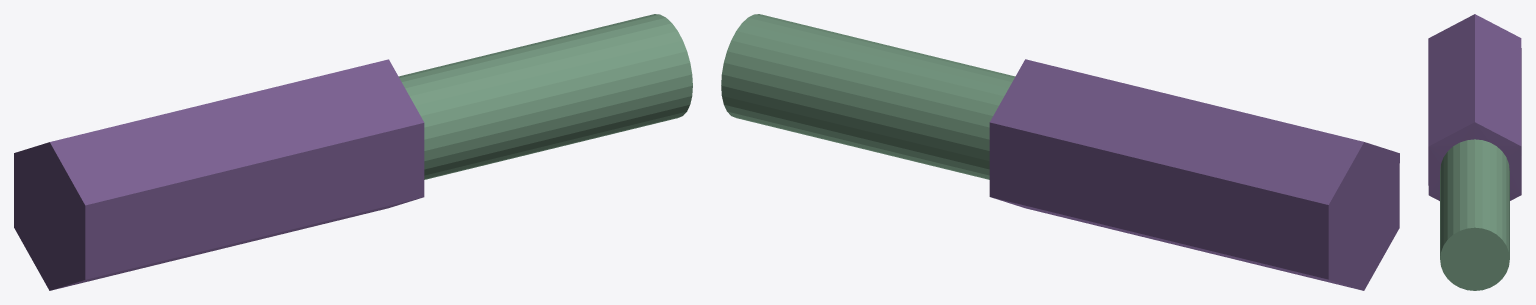
Rendered from board_2_3_canonical.obj.
3 views of the same model, side by side, from view 1: azimuth 30°, elevation 25°; view 2: azimuth 150°, elevation 25°; view 3: azimuth 270°, elevation 25° (orthographic). The views are drawn at different scales.
Parts seen in each view (by area): view 1: geometry_1, geometry_0; view 2: geometry_1, geometry_0; view 3: geometry_1, geometry_0.
Boxes of the visible parts, x1,y1,x2,y2 form: geometry_1: (14, 59, 424, 290); geometry_0: (398, 14, 692, 179); geometry_1: (989, 59, 1399, 290); geometry_0: (721, 14, 1015, 179); geometry_1: (1428, 14, 1521, 200); geometry_0: (1440, 139, 1509, 290).
Bounding box in the file's own units: 0.1 × 0.0231 × 0.02.
